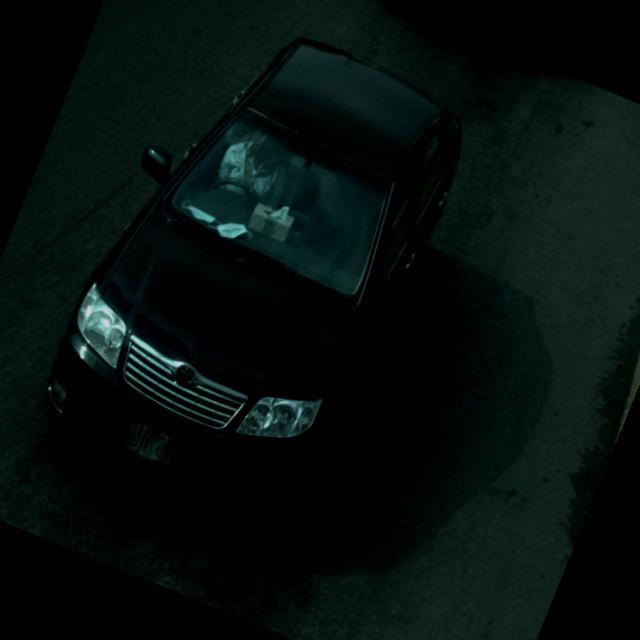windshield: (159, 102, 402, 310)
